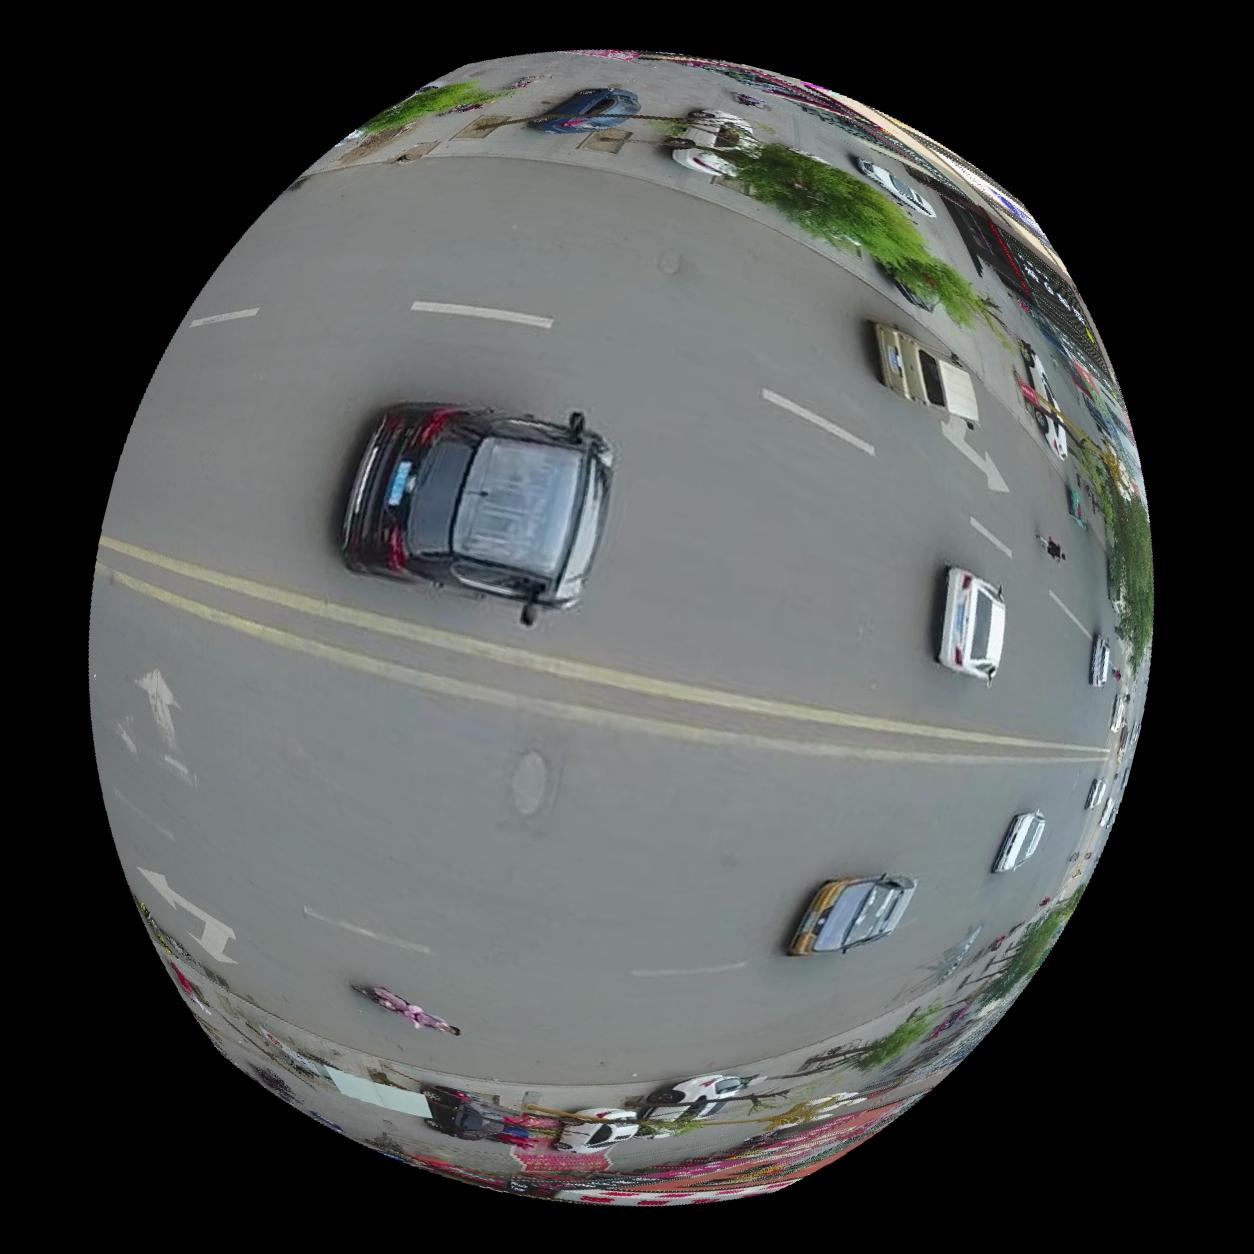cars: (340, 402, 612, 624), (874, 320, 980, 421), (787, 875, 916, 957), (936, 565, 1005, 683), (667, 106, 753, 175), (529, 85, 640, 131), (857, 155, 935, 214), (993, 810, 1046, 874), (1090, 634, 1110, 687)
trees: (709, 141, 993, 325)
